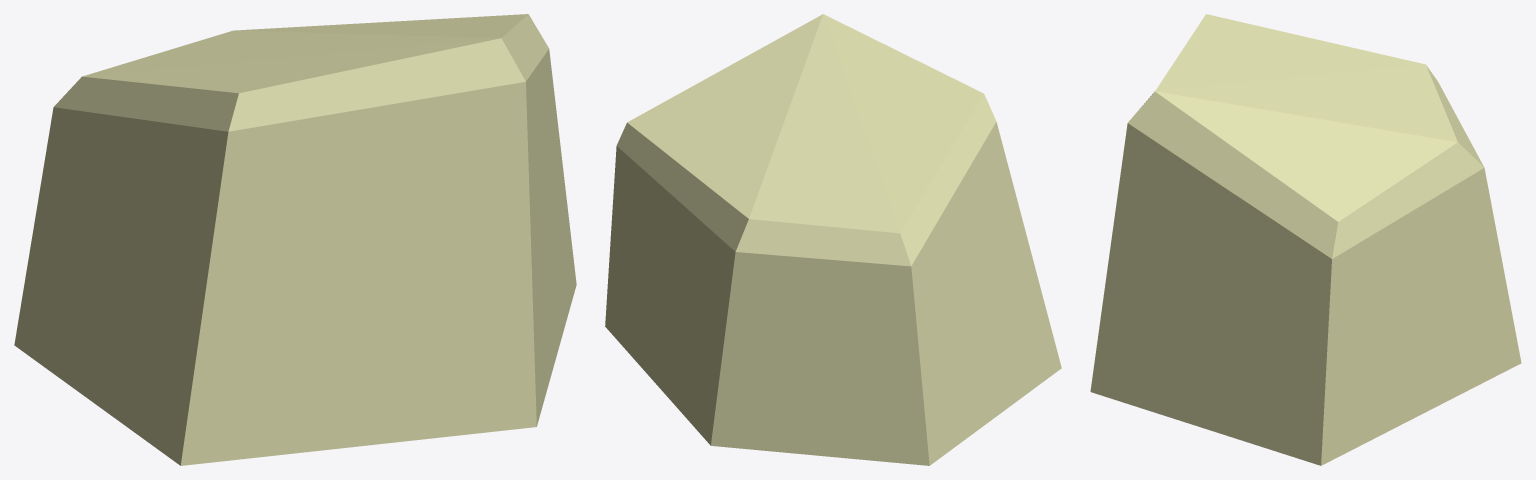
File: Rock_Mesa_Medium_10.fbx
3 renders of one model, left to right at view 1: azimuth 30°, elevation 25°; view 2: azimuth 150°, elevation 25°; view 3: azimuth 270°, elevation 25°, orthographic. The views are drawn at different scales.
Visible parts, largest first — view 1: Rock; view 2: Rock; view 3: Rock.
Part boxes in pixels (x1,y1,x2,y2): Rock: (14, 14, 576, 465); Rock: (605, 14, 1061, 465); Rock: (1090, 14, 1521, 465).
Bounding box in the file's own units: 50.53 × 36.09 × 46.44.
